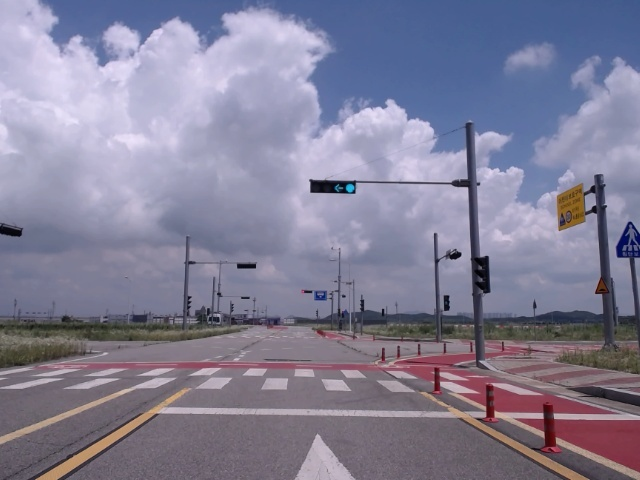all_green_4: (309, 180, 355, 193)
